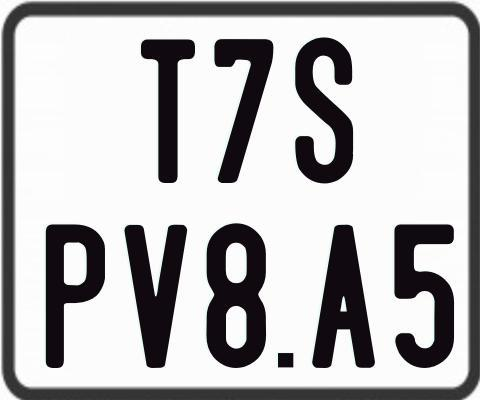5: (394, 224, 455, 370)
7: (212, 39, 275, 184)
8: (203, 220, 263, 368)
A: (311, 222, 379, 369)
P: (44, 222, 103, 370)
S: (293, 36, 351, 185)
T: (140, 38, 199, 188)
V: (123, 225, 186, 369)
